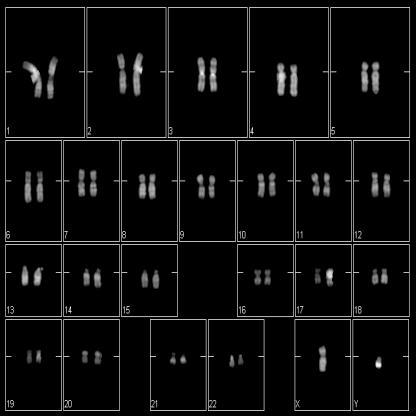1: (43, 55, 66, 100), (21, 53, 44, 98)
10: (254, 163, 268, 202), (268, 162, 280, 201)
11: (310, 163, 322, 202), (321, 163, 332, 202)
12: (368, 167, 382, 204), (382, 167, 396, 204)
13: (18, 260, 32, 290), (32, 260, 46, 290)
14: (92, 261, 107, 292), (80, 261, 94, 292)
15: (150, 262, 163, 294), (138, 263, 150, 294)
16: (251, 263, 263, 289), (263, 263, 275, 289)
17: (310, 265, 324, 292), (324, 263, 338, 290)
18: (368, 265, 380, 290), (380, 266, 390, 290)
19: (24, 346, 34, 366), (34, 346, 42, 366)
2: (129, 48, 145, 96), (113, 50, 129, 96)
20: (91, 342, 106, 370), (78, 342, 92, 370)
21: (166, 344, 180, 374), (180, 346, 194, 375)
22: (225, 351, 237, 371), (237, 351, 249, 371)
3: (196, 52, 208, 96), (207, 53, 219, 97)
4: (274, 58, 290, 100), (288, 58, 304, 100)
5: (370, 53, 381, 97), (358, 52, 368, 98)
6: (35, 164, 49, 205), (21, 164, 34, 205)
7: (76, 166, 88, 202), (87, 166, 99, 202)
8: (136, 170, 148, 204), (148, 169, 158, 203)
9: (194, 171, 207, 206), (206, 172, 219, 206)
X: (316, 340, 329, 376)
Y: (373, 351, 384, 374)
